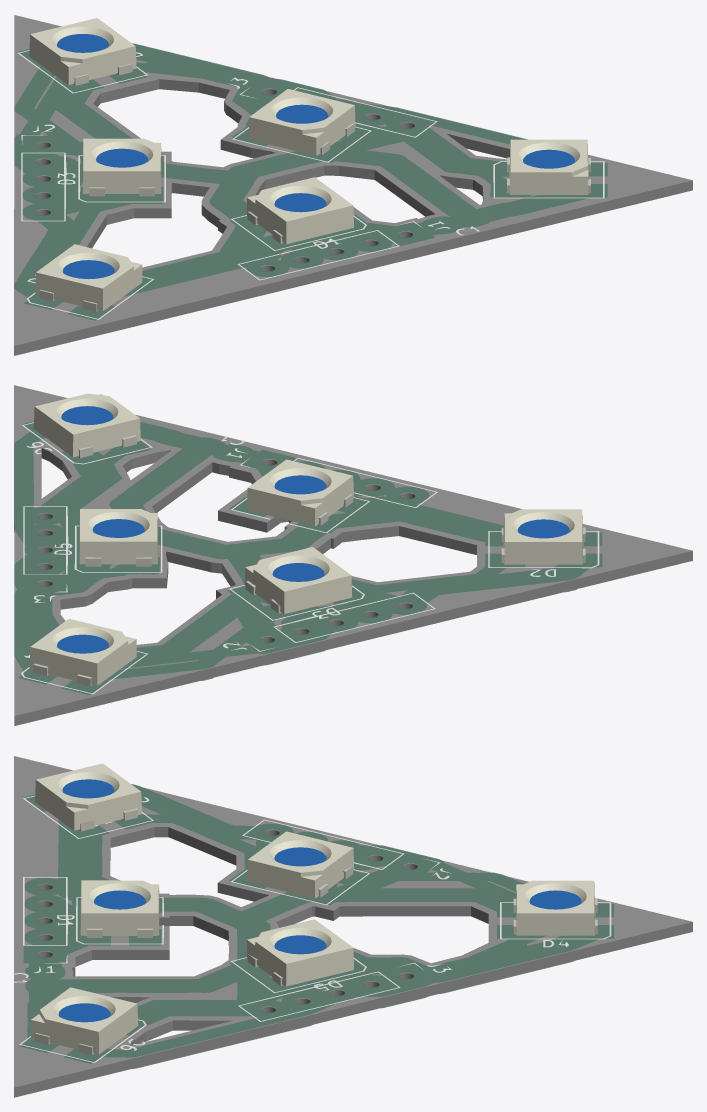
3 views of the same model, one above another, from view 1: azimuth 30°, elevation 25°; view 2: azimuth 150°, elevation 25°; view 3: azimuth 270°, elevation 25° (orthographic).
Visible parts, largest first — view 1: =>[0:1:1:5], =>[0:1:1:4], D4, D5, D2, D1, D6, D3, =>[0:1:1:3]; view 2: =>[0:1:1:5], =>[0:1:1:4], D1, D4, D3, D6, D2, D5, =>[0:1:1:3]; view 3: =>[0:1:1:5], =>[0:1:1:4], D2, D3, D6, D5, D4, D1, =>[0:1:1:3].
Boxes of the visible parts, <box> form: =>[0:1:1:5]: <box>14,15,692,355</box>; =>[0:1:1:4]: <box>14,43,607,320</box>; D4: <box>29,18,136,85</box>; D5: <box>248,89,355,155</box>; D2: <box>35,244,142,311</box>; D1: <box>247,177,353,244</box>; D6: <box>507,139,590,194</box>; D3: <box>83,138,161,196</box>; =>[0:1:1:3]: <box>18,50,604,319</box>; =>[0:1:1:5]: <box>14,385,692,725</box>; =>[0:1:1:4]: <box>14,421,602,695</box>; D1: <box>247,459,353,526</box>; D4: <box>29,618,136,686</box>; D3: <box>245,547,352,613</box>; D6: <box>33,393,140,457</box>; D2: <box>501,509,585,564</box>; D5: <box>79,509,157,566</box>; =>[0:1:1:3]: <box>21,422,599,694</box>; =>[0:1:1:5]: <box>14,756,692,1097</box>; =>[0:1:1:4]: <box>20,784,613,1068</box>; D2: <box>35,763,141,831</box>; D3: <box>247,831,353,898</box>; D6: <box>31,987,138,1055</box>; D5: <box>247,919,353,986</box>; D4: <box>513,880,597,935</box>; D1: <box>80,880,159,937</box>; =>[0:1:1:3]: <box>14,795,611,1062</box>.
Bounding box in the file's own units: 0.05 × 0.00257 × 0.0433.
